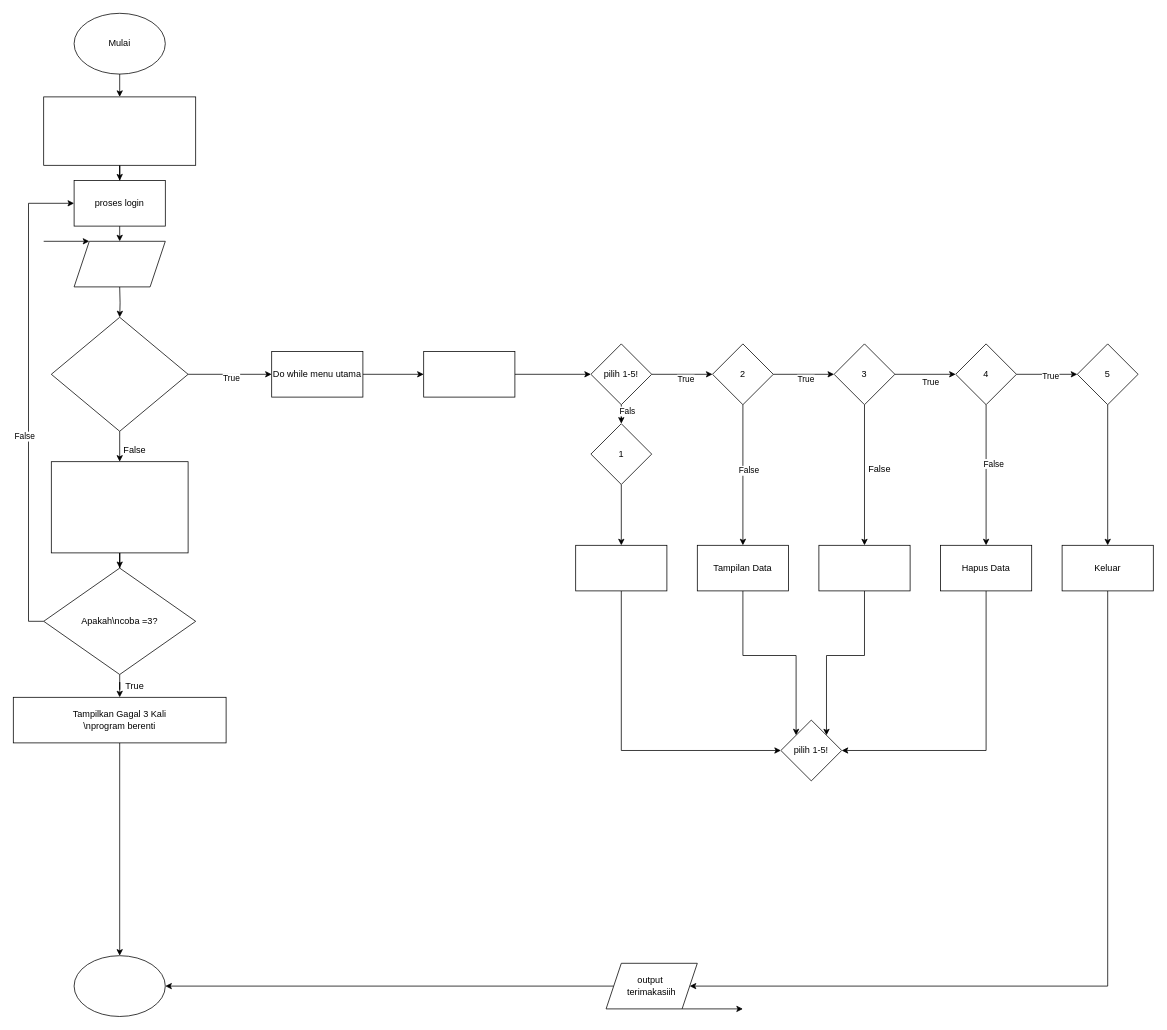
Some shapes in this 1167 by 1030 pixel diagram are drawn without their labels. Here are the shapes that lost their labels. From the top down, the centre of each, then its label:
point (119, 130): struct dan var\user=adri,110 \ndata[10],jumlah =0\ncoba=0 statuslogim=false
point (119, 264): Input nama&nim
point (119, 374): Apakah\nnama=adri &&pass==110
point (469, 374): Tampilkan menu utama
point (119, 507): coba=coba+1\nTampilkan login salah\n tampilkan sisa =3-coba
point (621, 568): Tambah Data
point (864, 568): Update Data
point (119, 985): selesai
